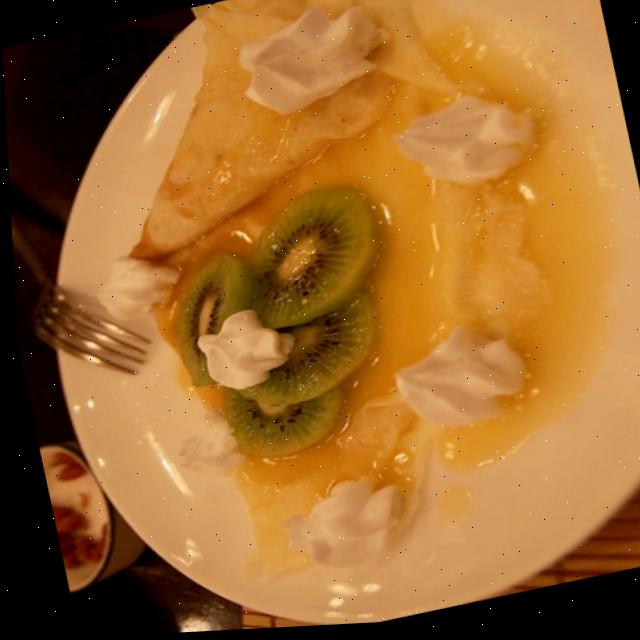蛋糕甜品: (119, 0, 625, 603)
